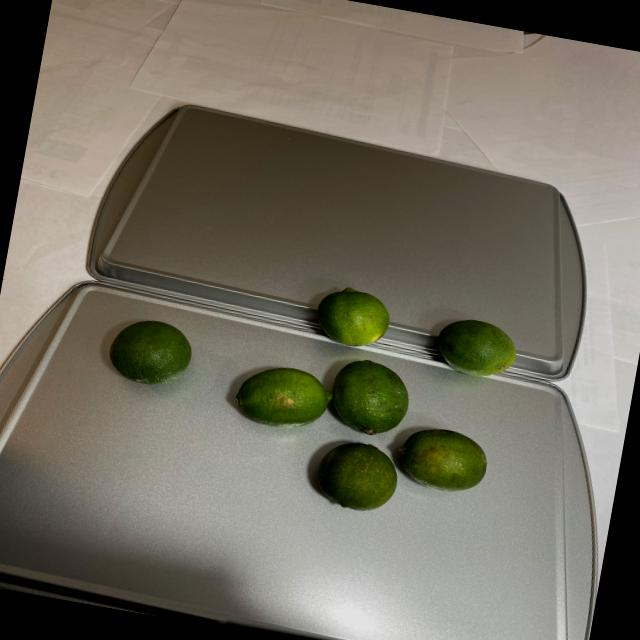lemon: (90, 250, 526, 538)
